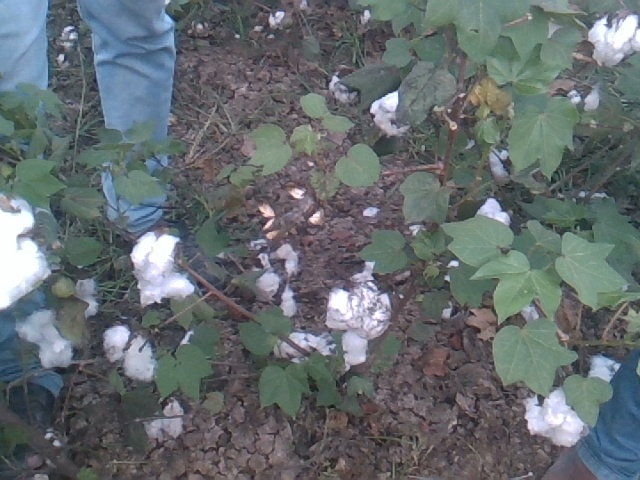cotton: (1, 194, 51, 312), (327, 281, 391, 371), (131, 230, 195, 307), (524, 381, 588, 448), (15, 309, 78, 370), (102, 323, 155, 383), (368, 88, 421, 140), (589, 13, 640, 67), (272, 330, 328, 377), (473, 199, 511, 242), (242, 268, 278, 303), (328, 73, 359, 110), (266, 8, 290, 35)
